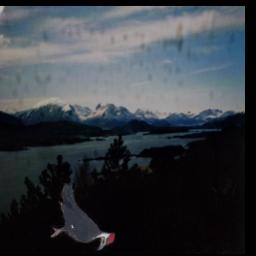Woodpecker: (51, 184, 117, 251)
